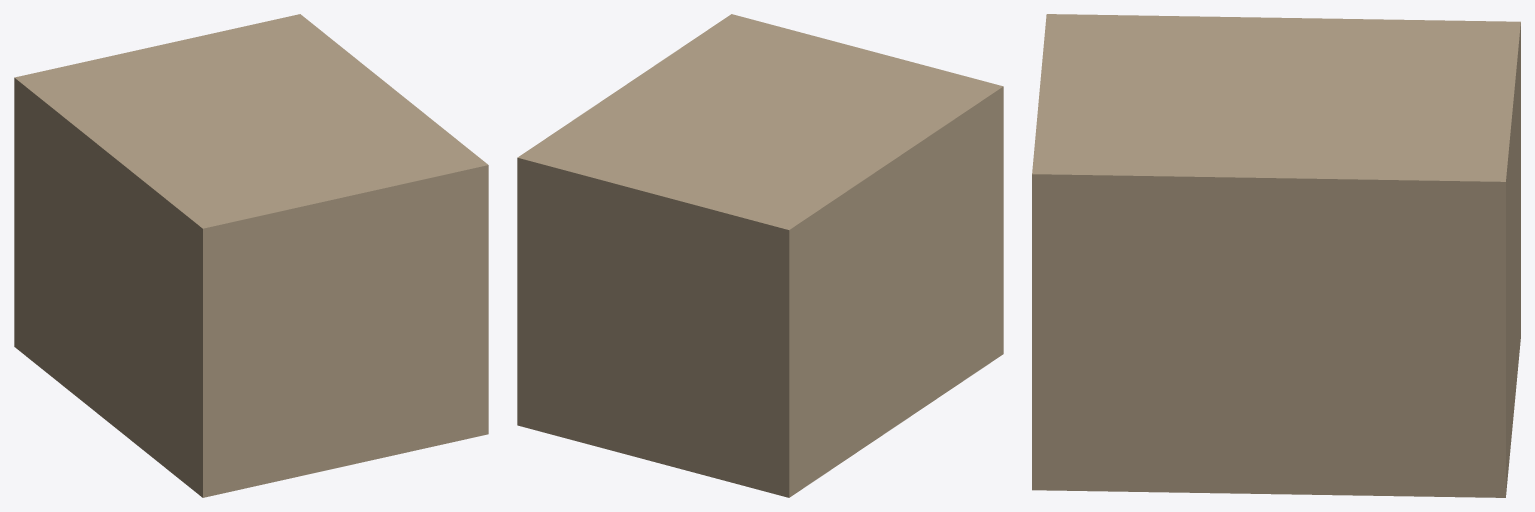
Rendered from bld_106415214.dae.
The picture shows the model from 3 angles, left to right: view 1: azimuth 30°, elevation 25°; view 2: azimuth 150°, elevation 25°; view 3: azimuth 270°, elevation 25°; orthographic projection. The views are drawn at different scales.
Parts seen in each view (by area): view 1: bld_106415214; view 2: bld_106415214; view 3: bld_106415214.
Boxes of the visible parts, x1,y1,x2,y2 form: bld_106415214: (14, 14, 488, 497); bld_106415214: (517, 14, 1003, 497); bld_106415214: (1032, 14, 1520, 497).
Bounding box in the file's own units: 9.11 × 11.21 × 8.
